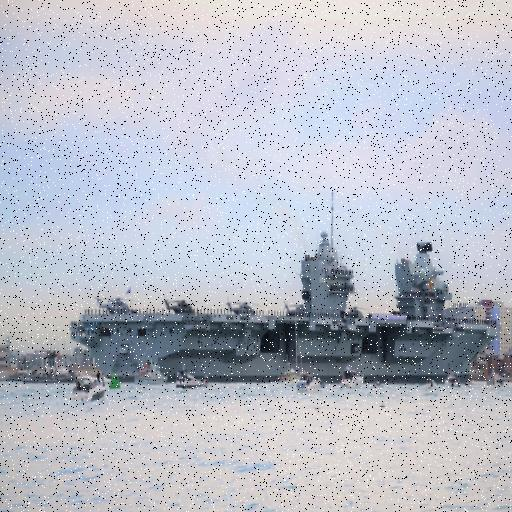Portanaves: (69, 194, 504, 390)
